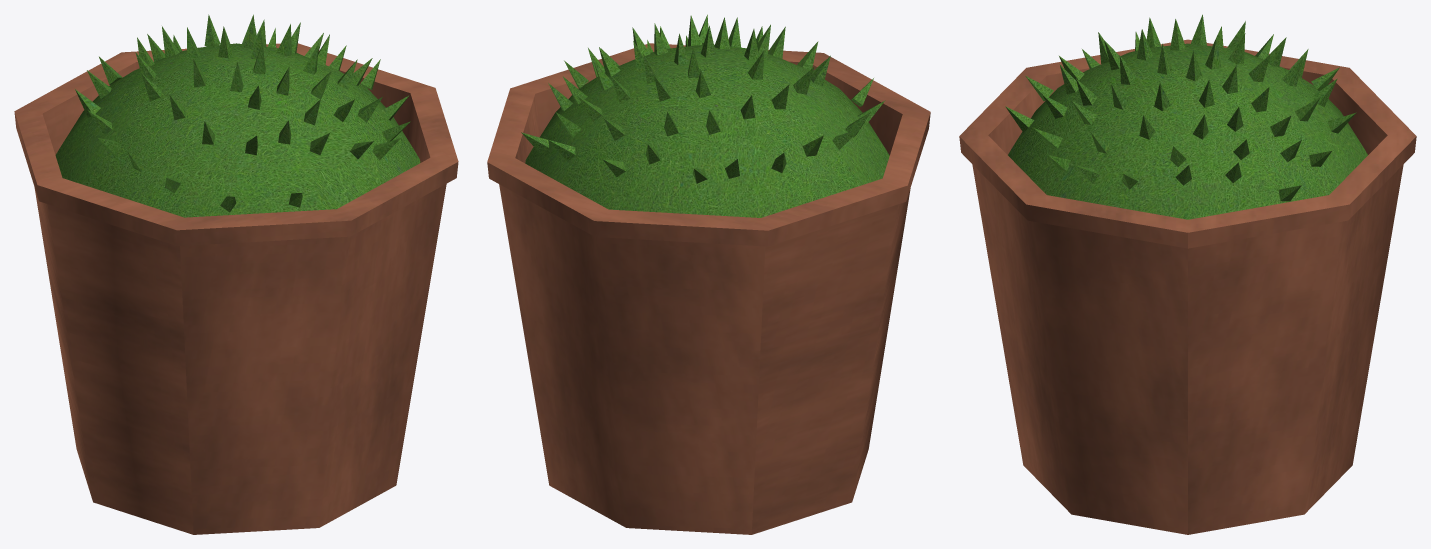
The model's file is cactus_in_pot.obj.
The picture shows the model from 3 angles, left to right: view 1: azimuth 30°, elevation 25°; view 2: azimuth 150°, elevation 25°; view 3: azimuth 270°, elevation 25°; orthographic projection.
Parts seen in each view (by area): view 1: cactus_in_pot; view 2: cactus_in_pot; view 3: cactus_in_pot.
Part boxes in pixels (x1,y1,x2,y2): cactus_in_pot: [14, 14, 458, 534]; cactus_in_pot: [487, 14, 930, 534]; cactus_in_pot: [959, 14, 1416, 534].
Size of the model in its own units: 0.125 by 0.1292 by 0.125.
2 materials, 2 textured.
